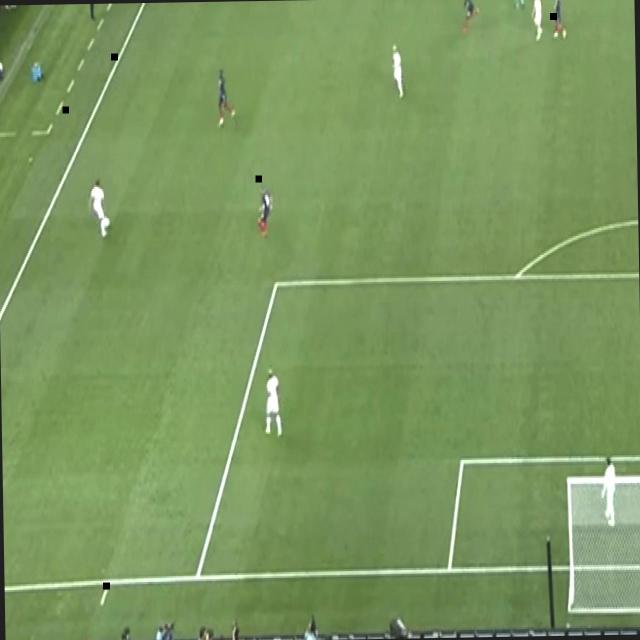player-white: (266, 363, 282, 450), (90, 178, 110, 243), (218, 62, 235, 136), (389, 38, 404, 106), (258, 184, 272, 247), (529, 0, 545, 46), (551, 0, 568, 40), (461, 0, 478, 34), (514, 0, 526, 13)
